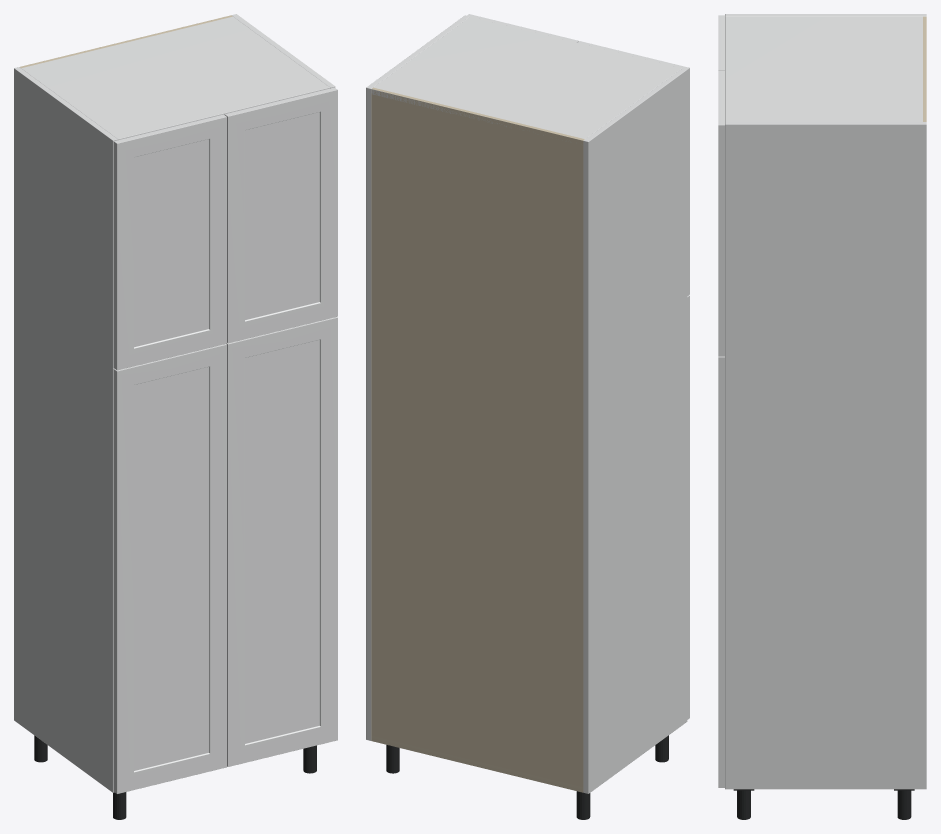
The model's file is PLY-WSS-PC3084.glb.
3 renders of one model, left to right at view 1: azimuth 30°, elevation 25°; view 2: azimuth 150°, elevation 25°; view 3: azimuth 270°, elevation 25°, orthographic.
Visible parts, largest first — view 1: Carcass left, Shaker door, Shaker door.001, Shaker door.002, Shaker door.003, Carcass top; view 2: Carcass back, Carcass left, Carcass top, Carcass right, Shaker door, Carcass bottom, Shaker door.002; view 3: Carcass right, Carcass top, Shaker door.001, Shaker door.003, Carcass left, Adjustable foot.002, Carcass back, Adjustable foot.003.
Part boxes in pixels (bbox=[...]): Carcass left: bbox=[14, 67, 117, 792]; Shaker door: bbox=[113, 344, 226, 793]; Shaker door.001: bbox=[226, 317, 337, 766]; Shaker door.002: bbox=[113, 114, 226, 370]; Shaker door.003: bbox=[224, 87, 337, 343]; Carcass top: bbox=[20, 16, 329, 140]; Carcass back: bbox=[371, 87, 584, 792]; Carcass left: bbox=[583, 68, 687, 793]; Carcass top: bbox=[371, 16, 681, 139]; Carcass right: bbox=[366, 15, 469, 740]; Shaker door: bbox=[687, 295, 689, 719]; Carcass bottom: bbox=[371, 736, 583, 792]; Shaker door.002: bbox=[578, 41, 689, 295]; Carcass right: bbox=[725, 122, 926, 789]; Carcass top: bbox=[725, 16, 922, 121]; Shaker door.001: bbox=[718, 356, 724, 787]; Shaker door.003: bbox=[718, 70, 724, 356]; Carcass left: bbox=[725, 14, 926, 16]; Adjustable foot.002: bbox=[897, 790, 911, 819]; Carcass back: bbox=[923, 16, 926, 121]; Adjustable foot.003: bbox=[737, 790, 750, 819].
Size of the model in its own units: 0.762 by 2.25 by 0.6064.
